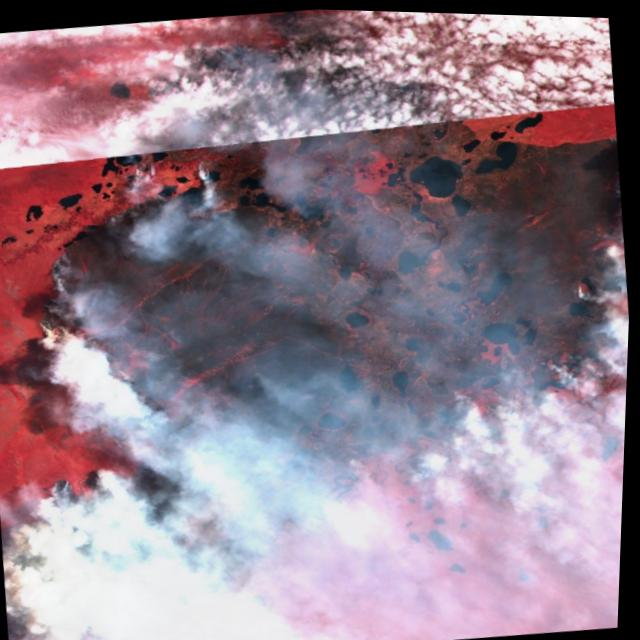fire: (0, 28, 360, 640), (395, 211, 634, 484)
